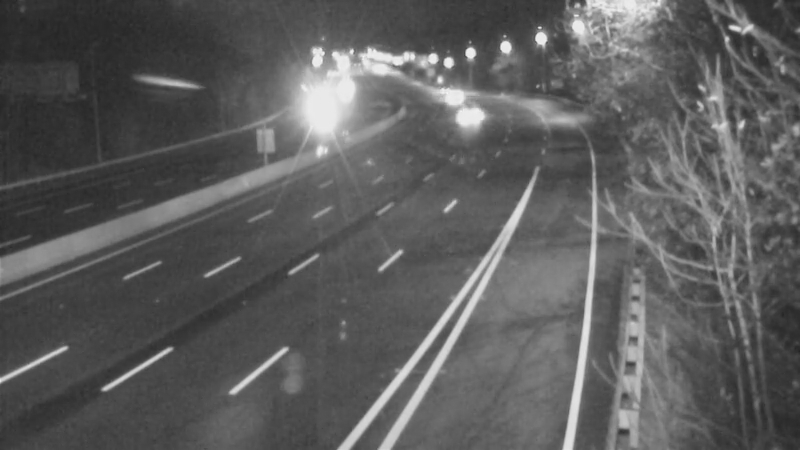vehicle: (423, 66, 473, 116), (435, 72, 485, 122), (446, 85, 496, 135), (301, 87, 351, 137)
